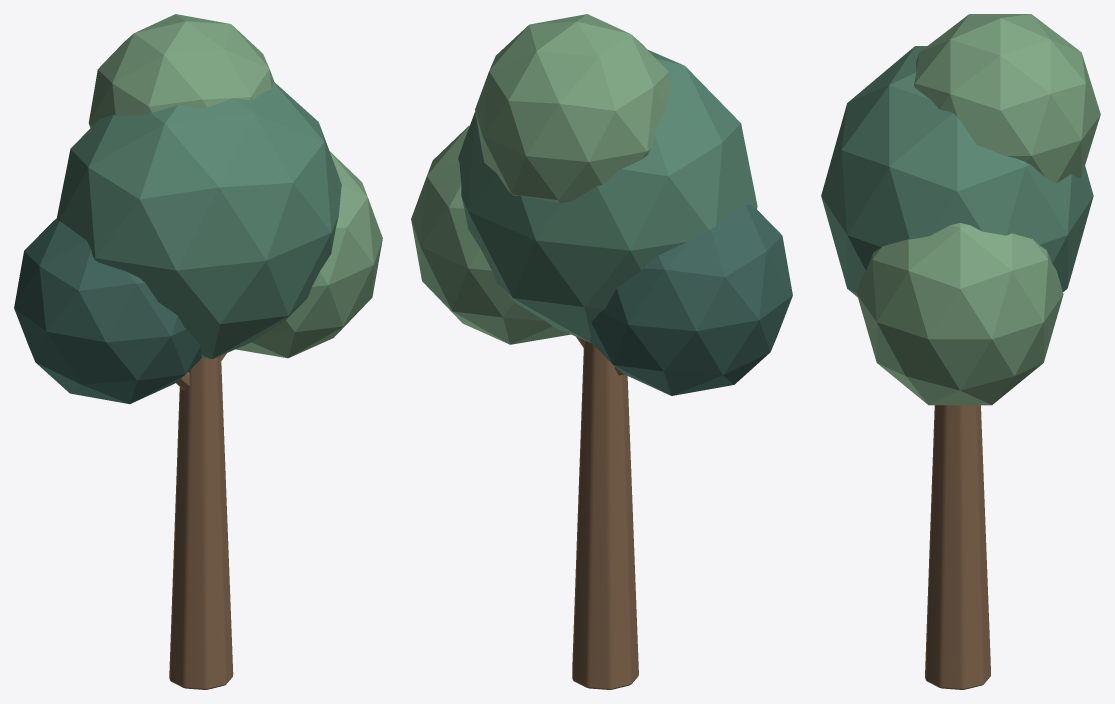
Rendered from SM_Tree_Deciduous_01.fbx.
3 views of the same model, side by side, from view 1: azimuth 30°, elevation 25°; view 2: azimuth 150°, elevation 25°; view 3: azimuth 270°, elevation 25° (orthographic). The views are drawn at different scales.
Parts seen in each view (by area): view 1: SM_Tree_Deciduous_01; view 2: SM_Tree_Deciduous_01; view 3: SM_Tree_Deciduous_01.
Part boxes in pixels (x1=…): SM_Tree_Deciduous_01: x1=14, y1=14, x2=382, y2=689; SM_Tree_Deciduous_01: x1=411, y1=14, x2=792, y2=689; SM_Tree_Deciduous_01: x1=821, y1=14, x2=1100, y2=689.
Bounding box in the file's own units: 2.79 × 5.09 × 1.95.
